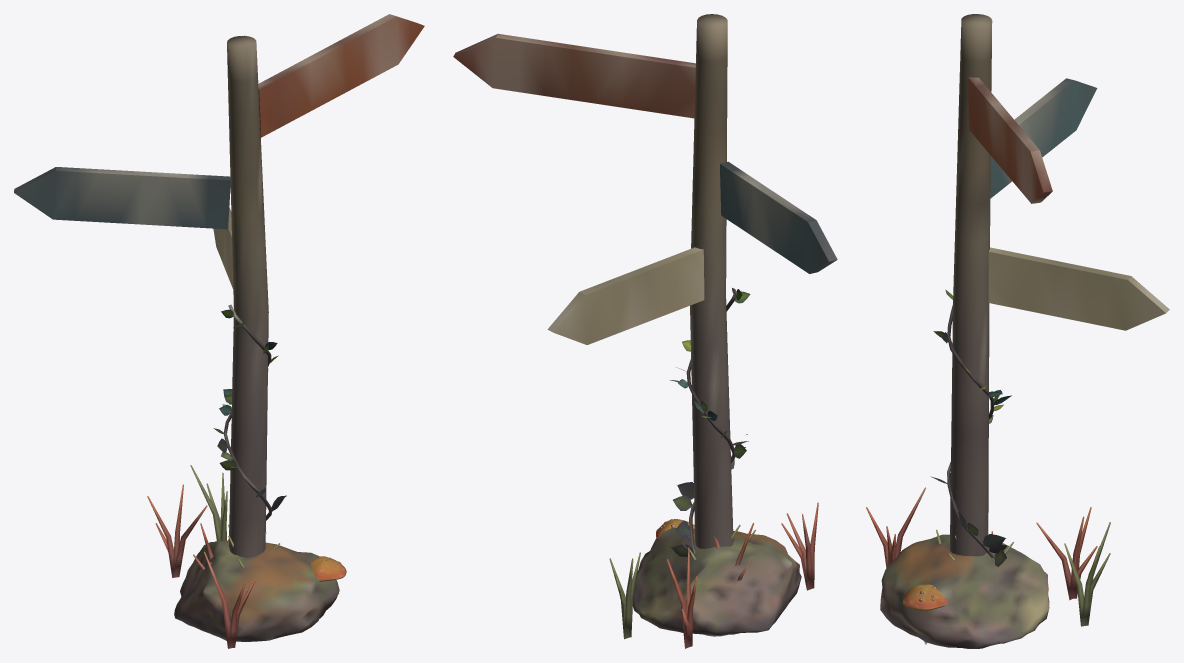
File: tabela_ahsap.glb
The picture shows the model from 3 angles, left to right: view 1: azimuth 30°, elevation 25°; view 2: azimuth 150°, elevation 25°; view 3: azimuth 270°, elevation 25°; orthographic projection. The views are drawn at different scales.
Parts seen in each view (by area): view 1: tabela_LOD0; view 2: tabela_LOD0; view 3: tabela_LOD0.
Boxes of the visible parts, box(x1,y1,x2,y2) form: tabela_LOD0: box(14, 14, 424, 648); tabela_LOD0: box(453, 14, 837, 648); tabela_LOD0: box(866, 14, 1169, 648).
Size of what is drawn, in the model's own units: 1.67 by 2.4 by 1.08.
